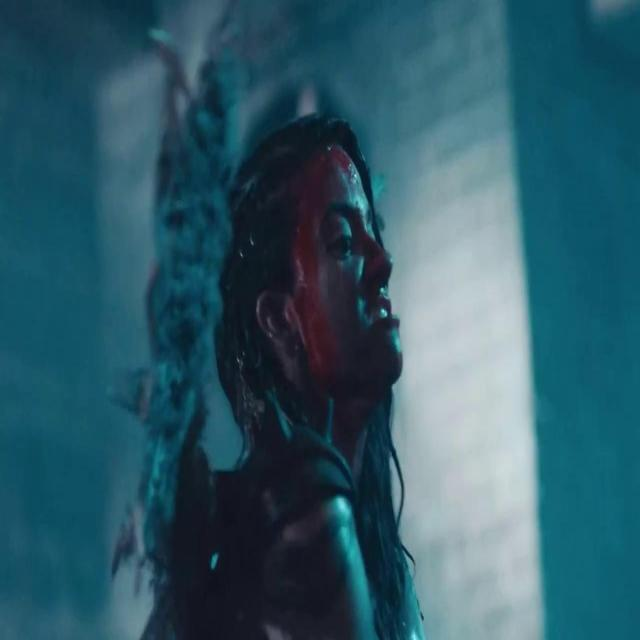flood: (288, 113, 387, 380)
